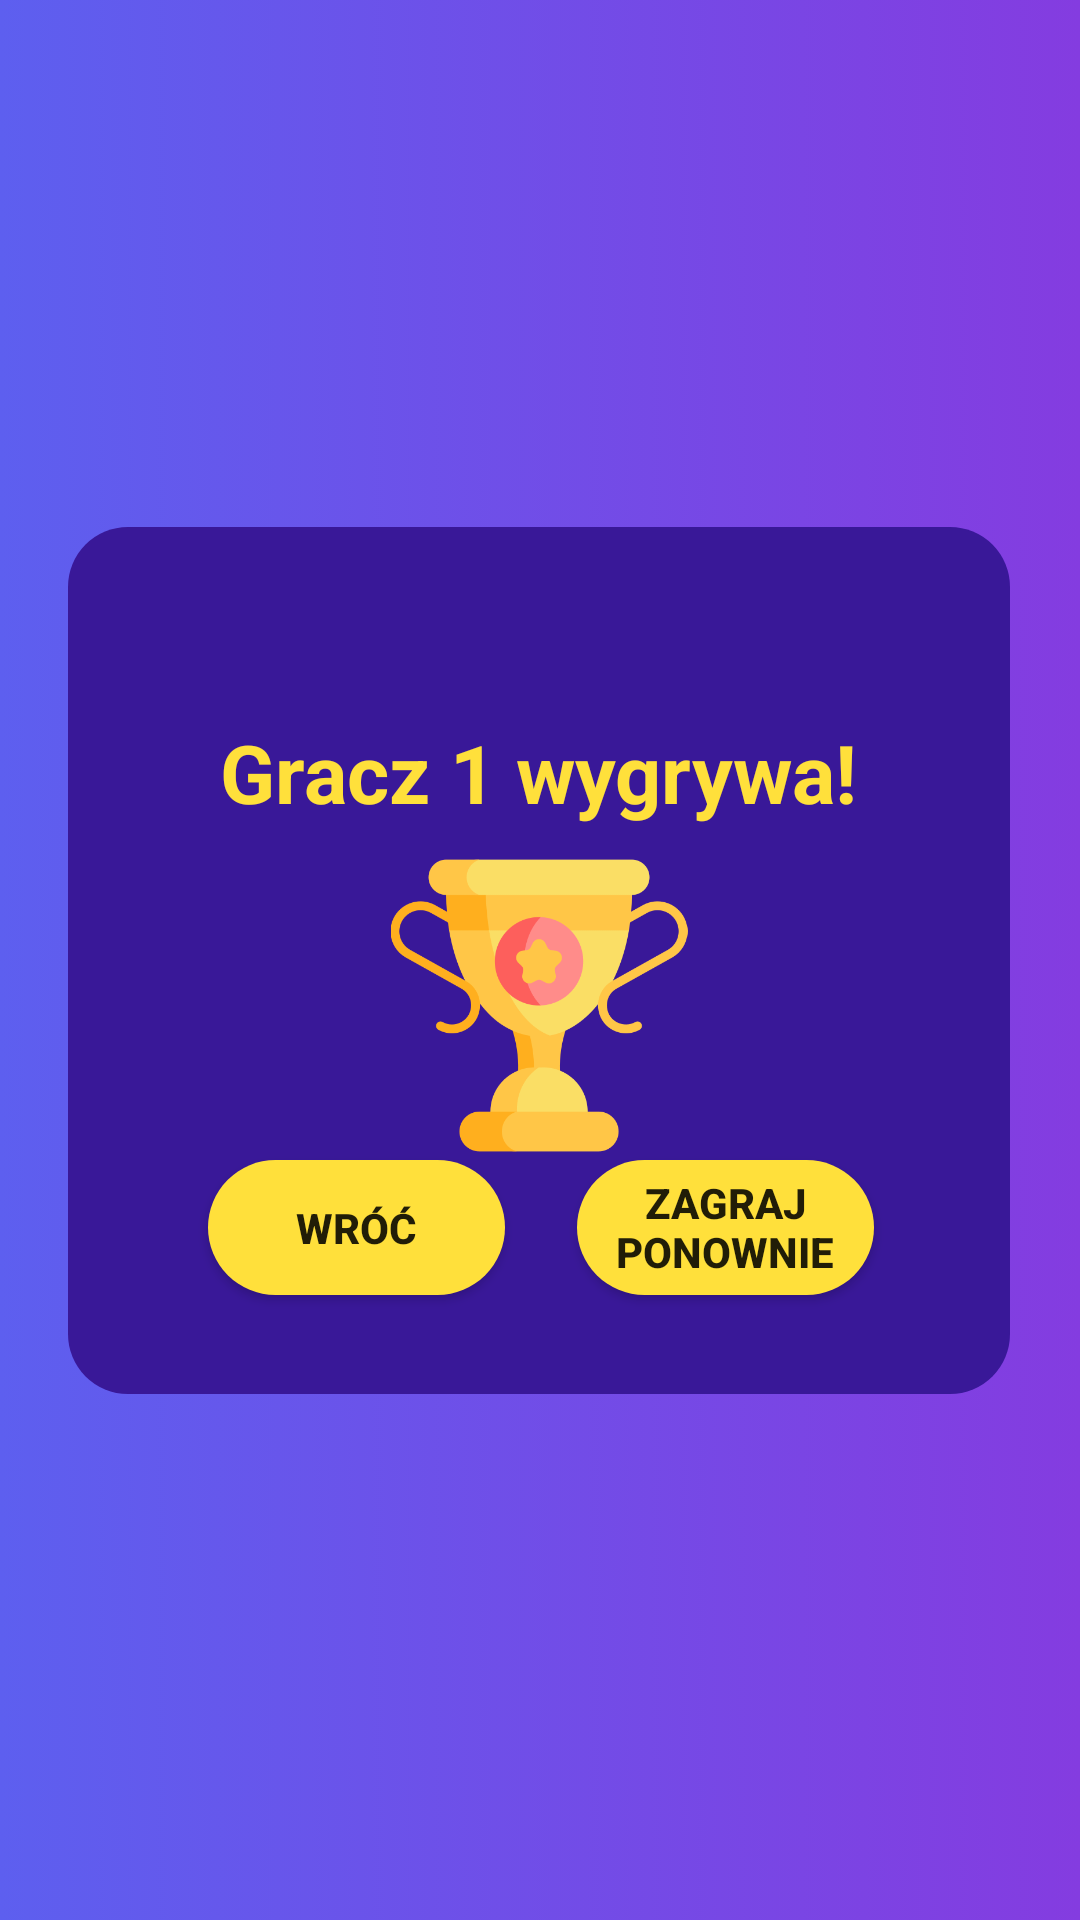

Point at icon controls on the screen. Image size 1080w x 1920h, points as (x=x, y=y).
trophy: (x=539, y=1005)
